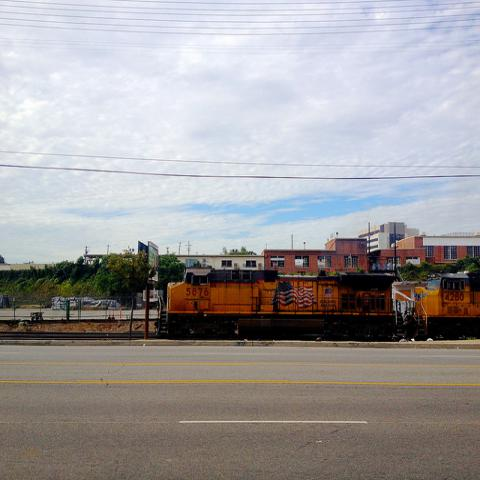car: (104, 300, 122, 310)
